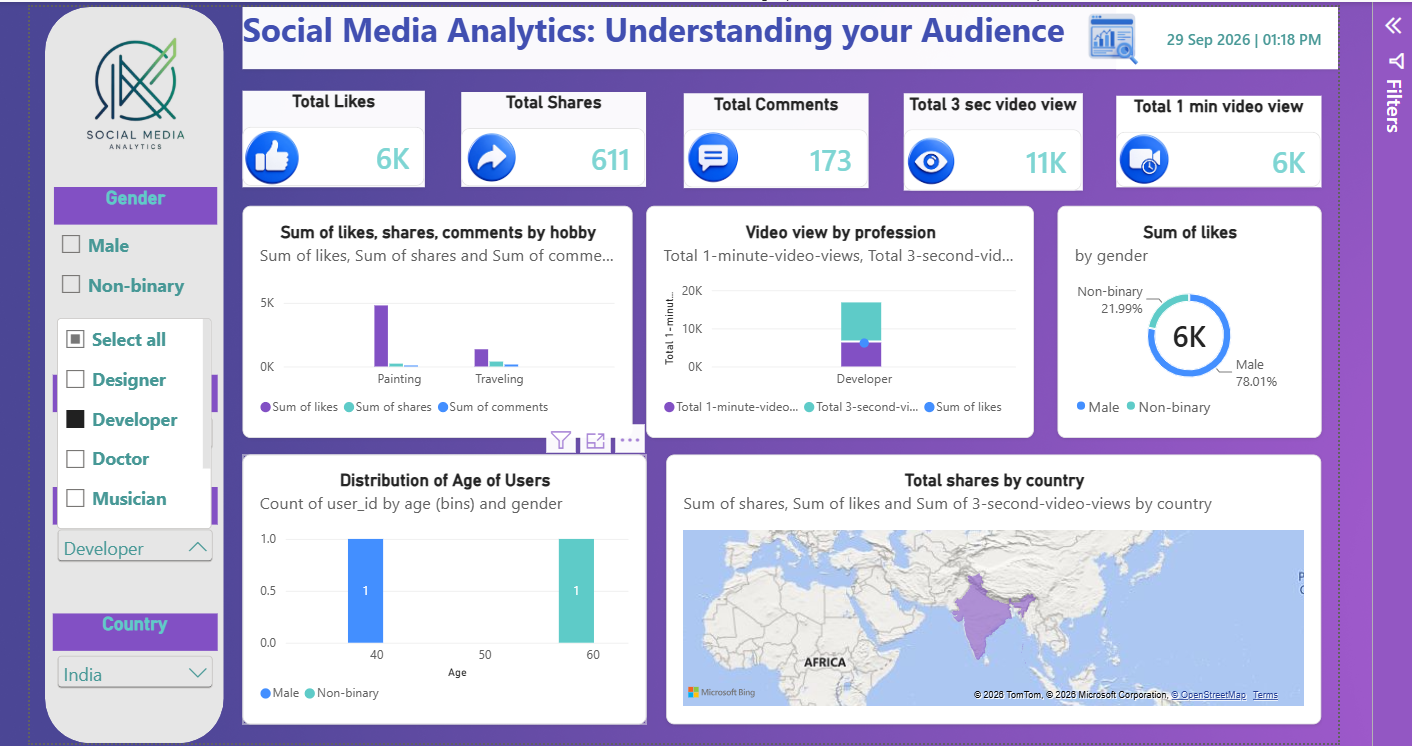

The page's visual inventory and layout, read from the dashboard file:
{"tool":"powerbi","page":{"name":"Dashboard","canvas":[1280,720],"ordinal":0},"visuals":[{"type":"shape","box":[14.7,0,174.9,720.2],"z":1000},{"type":"textbox","box":[207.9,0,1072.4,61.1],"z":2000},{"type":"image","box":[3.7,8.6,199.3,151.6],"z":3000},{"type":"cardVisual","title":"Total Likes","fields":{"Data":["Sum(social_media_analysis.likes)"]},"box":[207.9,81.9,178.5,94.2],"z":4000},{"type":"cardVisual","title":"Total Shares","fields":{"Data":["Sum(social_media_analysis.shares)"]},"box":[421.9,83.2,181,92.9],"z":5000},{"type":"cardVisual","title":"Total Comments","fields":{"Data":["Sum(social_media_analysis.comments)"]},"box":[639.5,84.4,181,92.9],"z":6000},{"type":"cardVisual","title":"Total 1 min video view","fields":{"Data":["Sum(social_media_analysis.1-minute-video-views)"]},"box":[1062.6,86.8,200.5,89.3],"z":7000},{"type":"cardVisual","title":"Total 3 sec video view","fields":{"Data":["Sum(social_media_analysis.3-second-video-views)"]},"box":[854.8,84.4,174.9,95.4],"z":8000},{"type":"clusteredColumnChart","title":"Sum of likes, shares, comments by hobby","fields":{"Category":["social_media_analysis.hobby"],"Y":["Sum(social_media_analysis.likes)","Sum(social_media_analysis.shares)","Sum(social_media_analysis.comments)"]},"box":[207.9,194.4,381.5,227.4],"z":9000},{"type":"lineStackedColumnComboChart","title":"Video view by profession","fields":{"Category":["social_media_analysis.profession"],"Y":["Sum(social_media_analysis.1-minute-video-views)","Sum(social_media_analysis.3-second-video-views)"],"Y2":["Sum(social_media_analysis.likes)"]},"box":[602.9,194.4,379.1,227.4],"z":10000},{"type":"donutChart","fields":{"Category":["social_media_analysis.gender"],"Y":["Sum(social_media_analysis.likes)"]},"box":[1005.2,194.4,258,227.4],"z":11000},{"type":"columnChart","title":"Distribution of Age of Users","fields":{"Category":["social_media_analysis.age (bins)"],"Y":["CountNonNull(social_media_analysis.user_id)"],"Series":["social_media_analysis.gender"]},"box":[207.9,437.8,395,264.1],"z":12000},{"type":"slicer","title":"Gender","fields":{"Values":["social_media_analysis.gender"]},"box":[23.2,176.1,160.2,150.4],"z":13000},{"type":"slicer","title":"Hobby","fields":{"Values":["social_media_analysis.hobby"]},"box":[22,359.5,161.4,78.3],"z":14000},{"type":"slicer","title":"Proffesion","fields":{"Values":["social_media_analysis.profession"]},"box":[22,469.6,161.4,78.3],"z":15000},{"type":"filledMap","title":"Total shares by country","fields":{"Category":["social_media_analysis.country"]},"box":[622.4,437.8,640.8,264.1],"z":16000},{"type":"slicer","title":"Country","fields":{"Values":["social_media_analysis.country"]},"box":[22,593.1,161.4,78.3],"z":17000},{"type":"image","box":[421.9,97.8,59.9,100.3],"z":18000},{"type":"image","box":[639.5,105.2,57.5,84.4],"z":19000},{"type":"image","box":[854.8,107.6,53.8,86.8],"z":20000},{"type":"image","box":[1062.6,110.1,55,79.5],"z":21000},{"type":"image","box":[207.9,105.2,57.5,85.6],"z":22000},{"type":"cardVisual","fields":{"Data":["social_media_analysis.Last Update"]},"box":[1062.6,0,217.7,61.1],"z":23000},{"type":"image","box":[1032.1,0,53.8,61.1],"z":24000}]}

Visuals, with their boxes in screenshot pixels (x1, y1, x2, y2):
shape: [x1=41, y1=4, x2=220, y2=740]
textbox: [x1=238, y1=4, x2=1335, y2=66]
image: [x1=30, y1=12, x2=233, y2=167]
"Total Likes" cardVisual: [x1=238, y1=87, x2=421, y2=184]
"Total Shares" cardVisual: [x1=457, y1=89, x2=642, y2=184]
"Total Comments" cardVisual: [x1=680, y1=90, x2=865, y2=185]
"Total 1 min video view" cardVisual: [x1=1112, y1=92, x2=1317, y2=184]
"Total 3 sec video view" cardVisual: [x1=900, y1=90, x2=1079, y2=188]
"Sum of likes, shares, comments by hobby" clusteredColumnChart: [x1=238, y1=202, x2=628, y2=435]
"Video view by profession" lineStackedColumnComboChart: [x1=642, y1=202, x2=1030, y2=435]
donutChart - social_media_analysis.gender x Sum(social_media_analysis.likes): [x1=1053, y1=202, x2=1317, y2=435]
"Distribution of Age of Users" columnChart: [x1=238, y1=451, x2=642, y2=721]
"Gender" slicer: [x1=49, y1=184, x2=213, y2=337]
"Hobby" slicer: [x1=48, y1=371, x2=213, y2=451]
"Proffesion" slicer: [x1=48, y1=484, x2=213, y2=564]
"Total shares by country" filledMap: [x1=662, y1=451, x2=1317, y2=721]
"Country" slicer: [x1=48, y1=610, x2=213, y2=690]
image: [x1=457, y1=104, x2=518, y2=206]
image: [x1=680, y1=111, x2=738, y2=198]
image: [x1=900, y1=114, x2=955, y2=202]
image: [x1=1112, y1=116, x2=1168, y2=198]
image: [x1=238, y1=111, x2=297, y2=199]
cardVisual - social_media_analysis.Last Update: [x1=1112, y1=4, x2=1335, y2=66]
image: [x1=1081, y1=4, x2=1136, y2=66]
